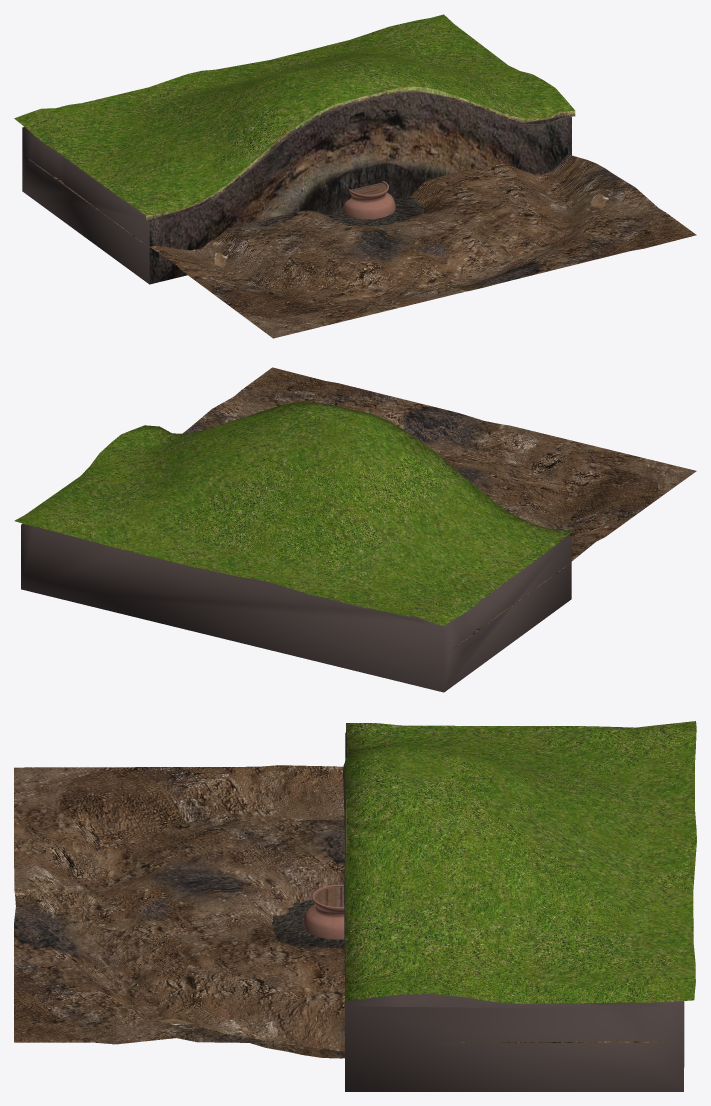
File: App_Grabhuegel.glb
3 views of the same model, one above another, from view 1: azimuth 30°, elevation 25°; view 2: azimuth 150°, elevation 25°; view 3: azimuth 270°, elevation 25° (orthographic). The views are drawn at different scales.
Visible parts, largest first — view 1: Plane, Cube.006, Cube.005, Cylinder, Plane.001; view 2: Cube.006, Cube.005, Plane; view 3: Cube.006, Plane, Cube.005, Plane.001, Cylinder.
Part boxes in pixels (x1=…): Plane: x1=29, y1=154, x2=696, y2=338; Cube.006: x1=14, y1=14, x2=575, y2=221; Cube.005: x1=22, y1=91, x2=571, y2=284; Cylinder: x1=342, y1=181, x2=395, y2=219; Plane.001: x1=328, y1=196, x2=424, y2=226; Cube.006: x1=14, y1=402, x2=574, y2=625; Cube.005: x1=21, y1=523, x2=571, y2=692; Plane: x1=183, y1=367, x2=696, y2=650; Cube.006: x1=344, y1=721, x2=696, y2=1004; Plane: x1=14, y1=765, x2=665, y2=1058; Cube.005: x1=343, y1=732, x2=684, y2=1091; Plane.001: x1=272, y1=900, x2=344, y2=948; Cylinder: x1=303, y1=884, x2=344, y2=939.
Size of the model in its own units: 17.99 by 5.9 by 18.51.
Materials: 7 (6 with a texture image).
